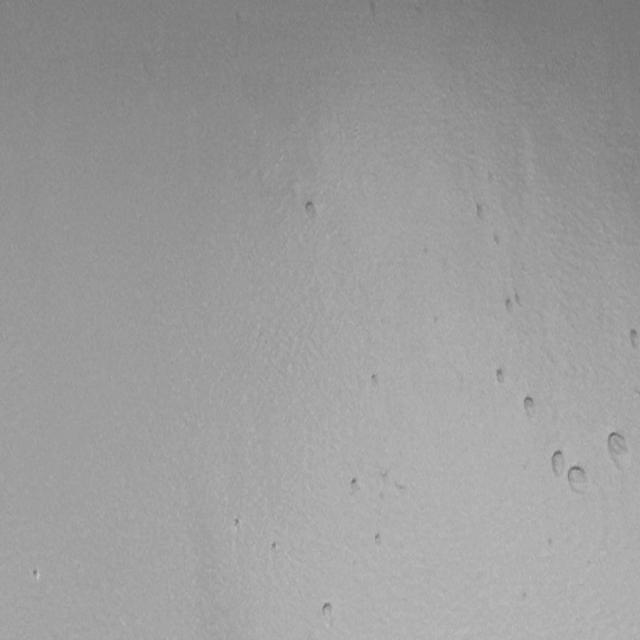pin holes: (601, 428, 635, 476), (564, 464, 590, 495), (547, 449, 566, 479), (300, 198, 322, 222), (521, 394, 541, 418), (366, 369, 385, 393), (318, 600, 336, 623), (491, 364, 508, 388), (501, 293, 518, 316), (346, 476, 364, 496), (626, 326, 640, 350), (29, 567, 44, 586), (474, 198, 485, 223), (391, 481, 408, 497), (372, 532, 387, 549), (489, 227, 501, 248), (377, 464, 392, 480), (232, 516, 245, 532), (269, 540, 281, 556), (546, 533, 554, 550)
